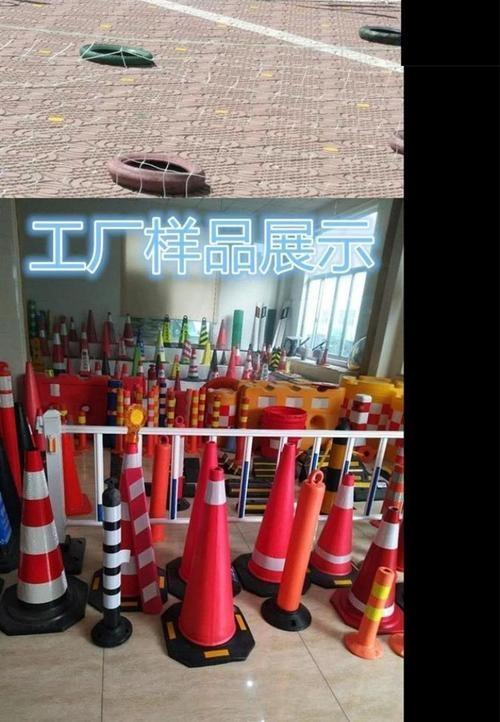cone_barrel: (173, 468, 245, 660), (11, 449, 69, 621), (246, 436, 301, 585), (272, 471, 325, 621), (120, 441, 160, 607), (350, 507, 402, 628), (309, 468, 360, 589), (341, 559, 397, 661), (92, 485, 124, 648)
